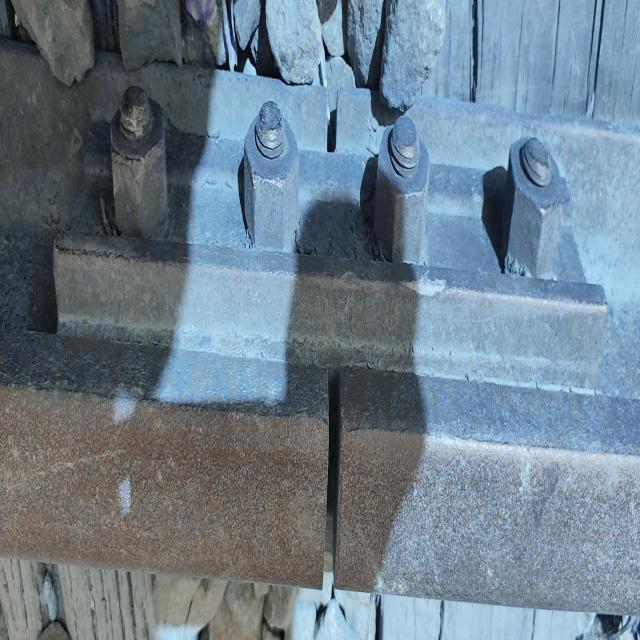railway_join_bar_defects_low: (317, 82, 350, 592)
